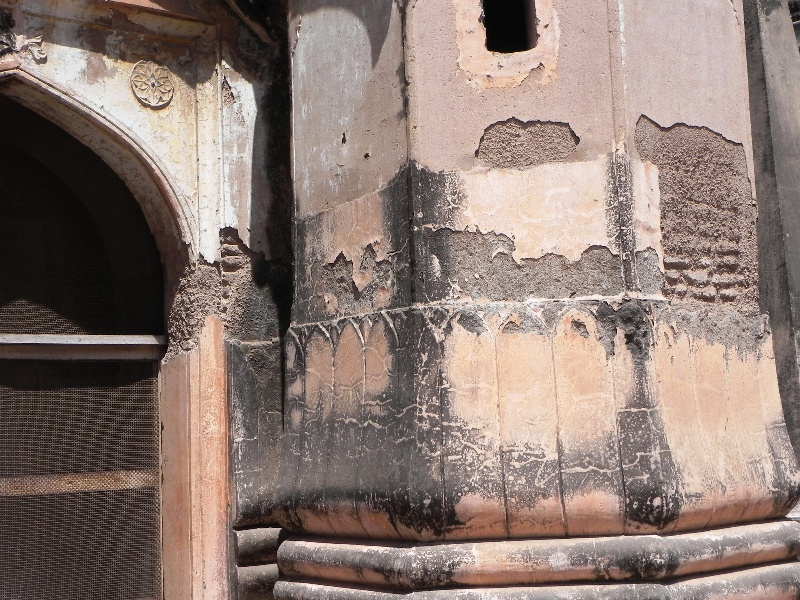Exposed Bricks: (660, 247, 755, 299), (219, 227, 244, 317)
Spalling: (625, 111, 760, 235), (425, 225, 618, 299), (157, 234, 217, 358), (473, 115, 579, 163)
